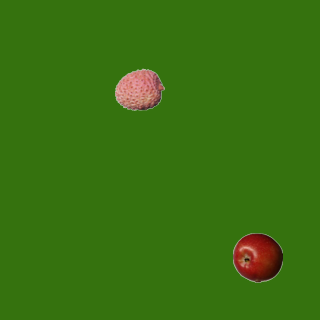Apple Braeburn: (232, 232, 282, 282)
Lychee: (114, 64, 164, 114)
